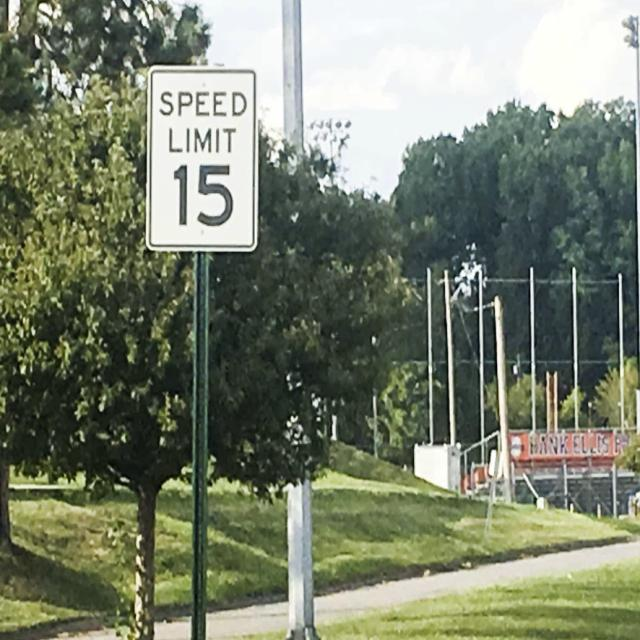speedLimit15: (151, 67, 257, 250)
